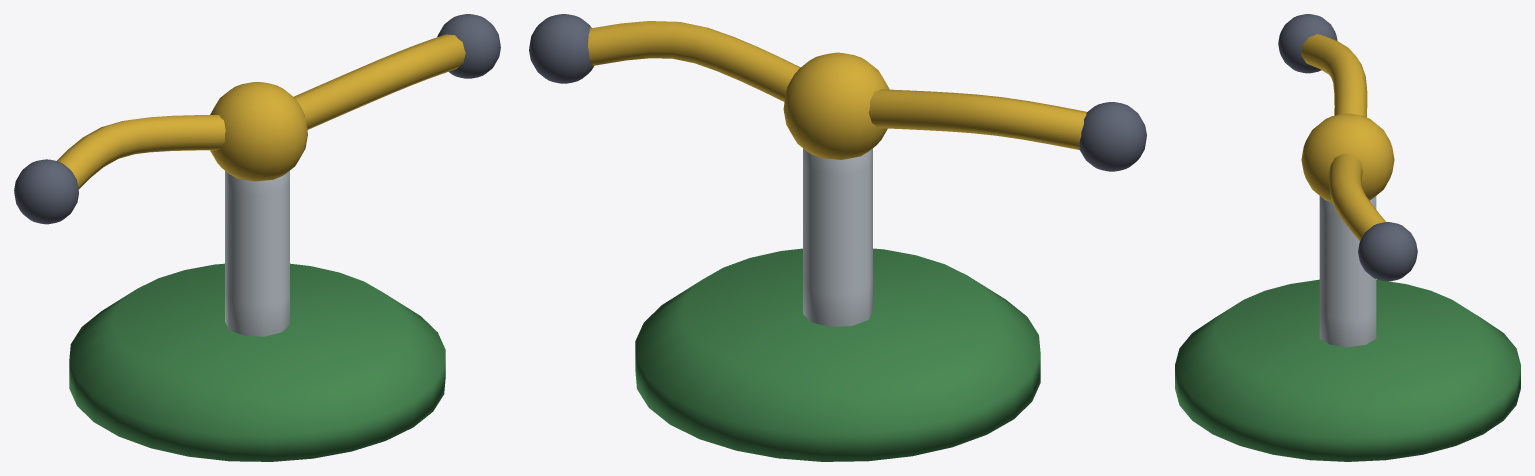
The model's file is rasensprenger.glb.
The picture shows the model from 3 angles, left to right: view 1: azimuth 30°, elevation 25°; view 2: azimuth 150°, elevation 25°; view 3: azimuth 270°, elevation 25°; orthographic projection. The views are drawn at different scales.
Parts seen in each view (by area): view 1: rasensprenger-lack, rasensprenger-metall; view 2: rasensprenger-lack, rasensprenger-metall; view 3: rasensprenger-lack, rasensprenger-metall.
Part boxes in pixels (x1,y1,x2,y2): rasensprenger-lack: (57, 34, 465, 461); rasensprenger-metall: (14, 14, 500, 336); rasensprenger-lack: (588, 21, 1086, 461); rasensprenger-metall: (529, 14, 1146, 326); rasensprenger-lack: (1175, 34, 1520, 461); rasensprenger-metall: (1278, 14, 1417, 347).
Bounding box in the file's own units: 0.83 × 0.45 × 0.52.
